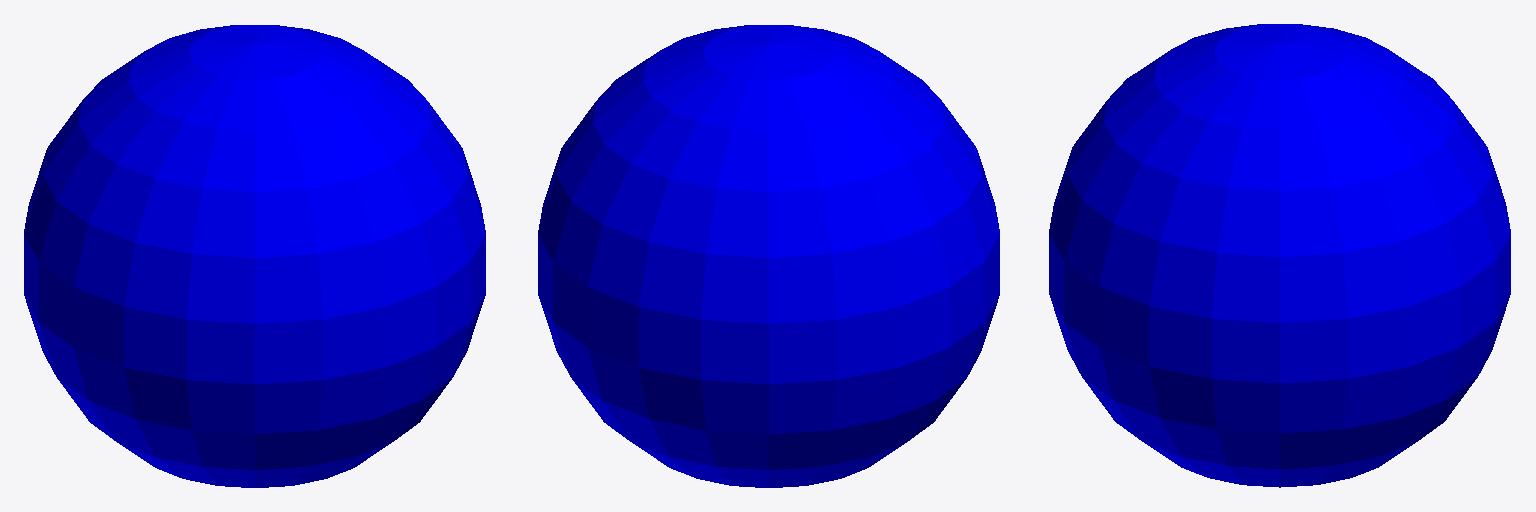
Rendered from lanqiu.obj.
The picture shows the model from 3 angles: view 1: azimuth 30°, elevation 25°; view 2: azimuth 150°, elevation 25°; view 3: azimuth 270°, elevation 25°; orthographic projection.
Parts seen in each view (by area): view 1: lanqiu; view 2: lanqiu; view 3: lanqiu.
Boxes of the visible parts, box(x1,y1,x2,y2) form: lanqiu: box(24, 25, 485, 487); lanqiu: box(538, 25, 999, 487); lanqiu: box(1049, 24, 1510, 487).
Bounding box in the file's own units: 0.1476 × 0.15 × 0.1481.